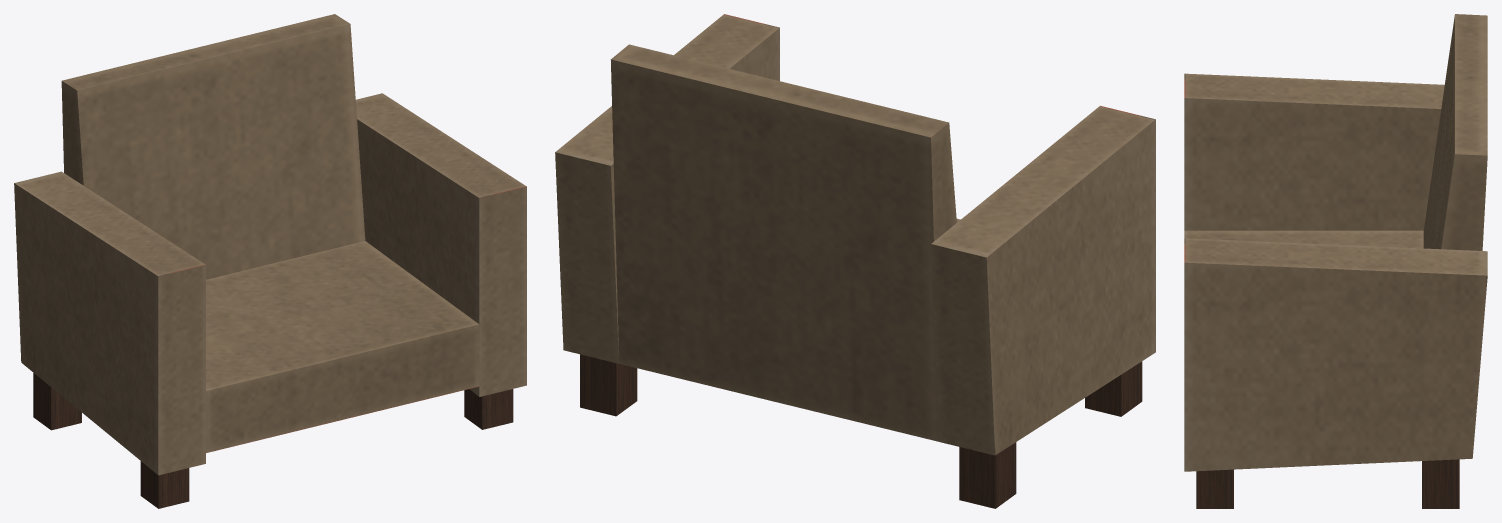
File: Couch_2A.fbx
3 views of the same model, side by side, from view 1: azimuth 30°, elevation 25°; view 2: azimuth 150°, elevation 25°; view 3: azimuth 270°, elevation 25° (orthographic). The views are drawn at different scales.
Visible parts, largest first — view 1: polySurface716; view 2: polySurface716; view 3: polySurface716.
Part boxes in pixels (x1=…): polySurface716: x1=14, y1=14, x2=526, y2=508; polySurface716: x1=555, y1=14, x2=1155, y2=508; polySurface716: x1=1184, y1=14, x2=1487, y2=508.
Bounding box in the file's own units: 1.55 × 1.28 × 1.05.
